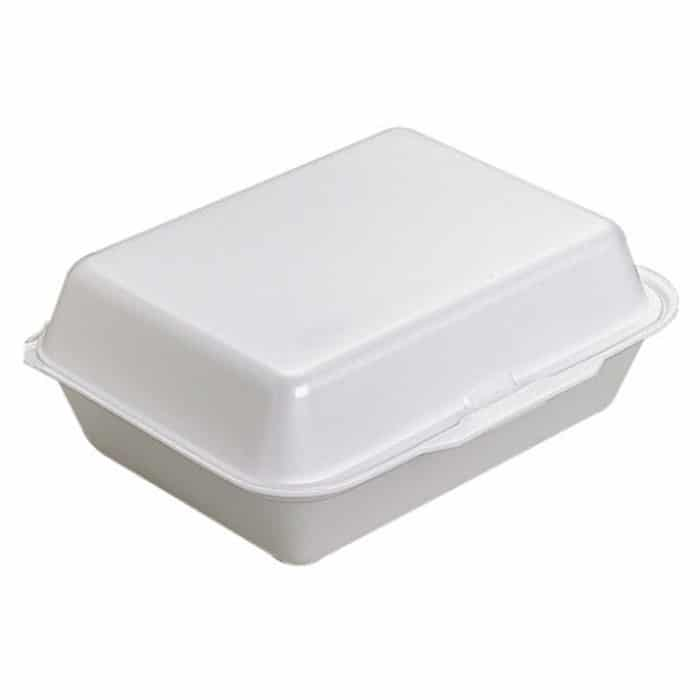styrofoam: (24, 121, 681, 568)
